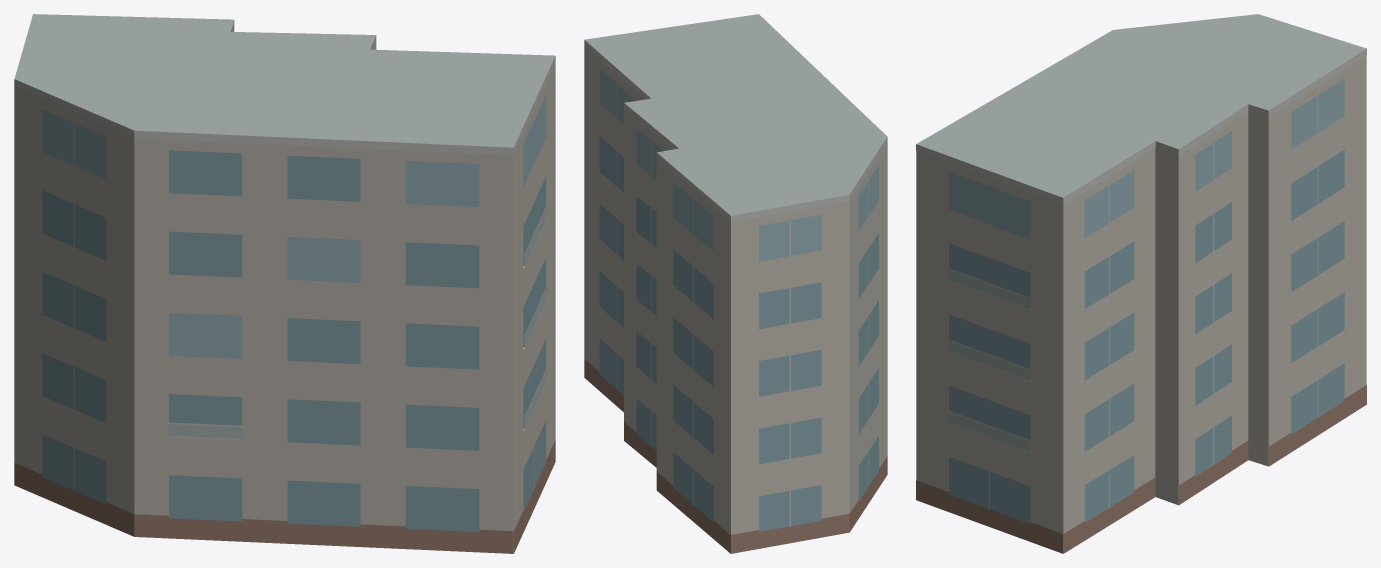
The model's file is survey-upis-32816985.glb.
3 views of the same model, side by side, from view 1: azimuth 30°, elevation 25°; view 2: azimuth 150°, elevation 25°; view 3: azimuth 270°, elevation 25° (orthographic). The views are drawn at different scales.
Visible parts, largest first — view 1: survey-upis-32816985.tmp; view 2: survey-upis-32816985.tmp; view 3: survey-upis-32816985.tmp.
Boxes of the visible parts, x1=… form: survey-upis-32816985.tmp: x1=14, y1=14, x2=555, y2=553; survey-upis-32816985.tmp: x1=584, y1=14, x2=887, y2=553; survey-upis-32816985.tmp: x1=916, y1=14, x2=1366, y2=553.
Size of the model in its own units: 14.41 by 13 by 14.92.
